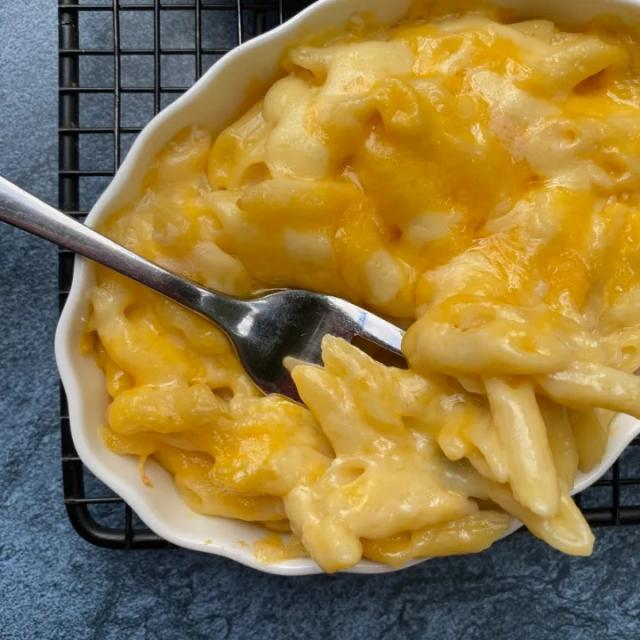pasta: (248, 90, 600, 561)
